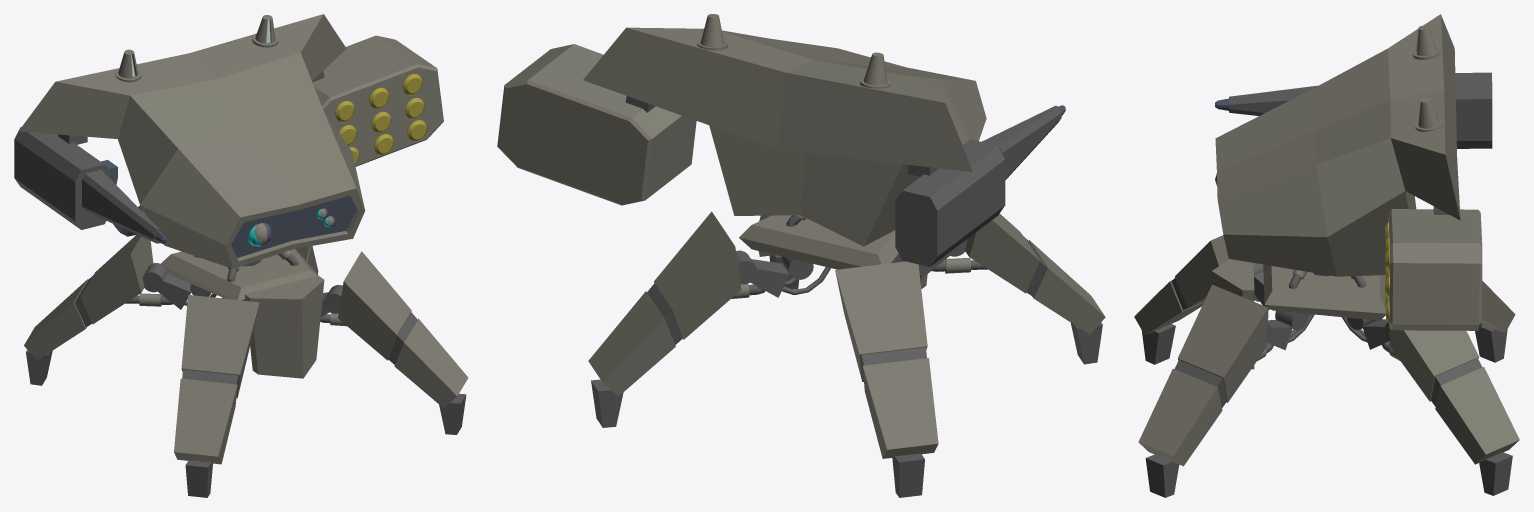
File: quadMech.fbx
The picture shows the model from 3 angles, left to right: view 1: azimuth 30°, elevation 25°; view 2: azimuth 150°, elevation 25°; view 3: azimuth 270°, elevation 25°; orthographic projection. The views are drawn at different scales.
Visible parts, largest first — view 1: Cockpit, Leg, rocketLauncher, Rifle, frontplate, legsBase, claw, joint, smallLeg, actuators.001; view 2: Cockpit, Leg, rocketLauncher, Rifle, legsBase, claw, smallLeg, actuators.001, joint; view 3: Cockpit, Leg, rocketLauncher, legsBase, Rifle, claw, smallLeg, frontplate, otherjoint.
Part boxes in pixels (x1,y1,x2,y2): Cockpit: (19, 14, 365, 268); Leg: (24, 235, 468, 464); rocketLauncher: (312, 35, 443, 166); Rifle: (14, 127, 166, 243); frontplate: (244, 276, 324, 378); legsBase: (160, 249, 318, 300); claw: (26, 349, 466, 497); joint: (142, 263, 342, 313); smallLeg: (157, 272, 329, 316); actuators.001: (125, 293, 346, 326); Cockpit: (583, 14, 986, 246); Leg: (588, 211, 1105, 458); rocketLauncher: (497, 44, 696, 205); Rifle: (895, 105, 1065, 266); legsBase: (739, 215, 898, 269); claw: (591, 254, 1102, 497); smallLeg: (750, 254, 949, 297); actuators.001: (731, 258, 987, 298); joint: (736, 239, 967, 284); Cockpit: (1215, 14, 1460, 276); Leg: (1134, 235, 1519, 466); rocketLauncher: (1385, 206, 1482, 330); legsBase: (1263, 264, 1385, 320); Rifle: (1215, 72, 1492, 148); claw: (1141, 323, 1512, 497); smallLeg: (1254, 272, 1389, 350); frontplate: (1211, 259, 1254, 369); otherjoint: (1275, 311, 1375, 330).
Size of the model in its own units: 1061 by 866 by 838.
5 materials, 1 textured.
